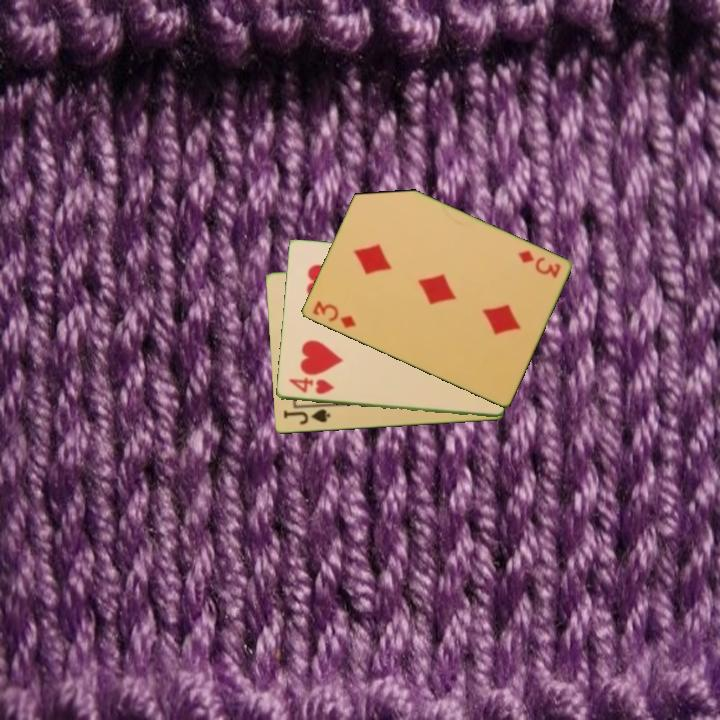3d: (514, 247, 564, 281), (309, 297, 358, 331)
4h: (285, 375, 337, 397)
Js: (279, 406, 333, 428)
